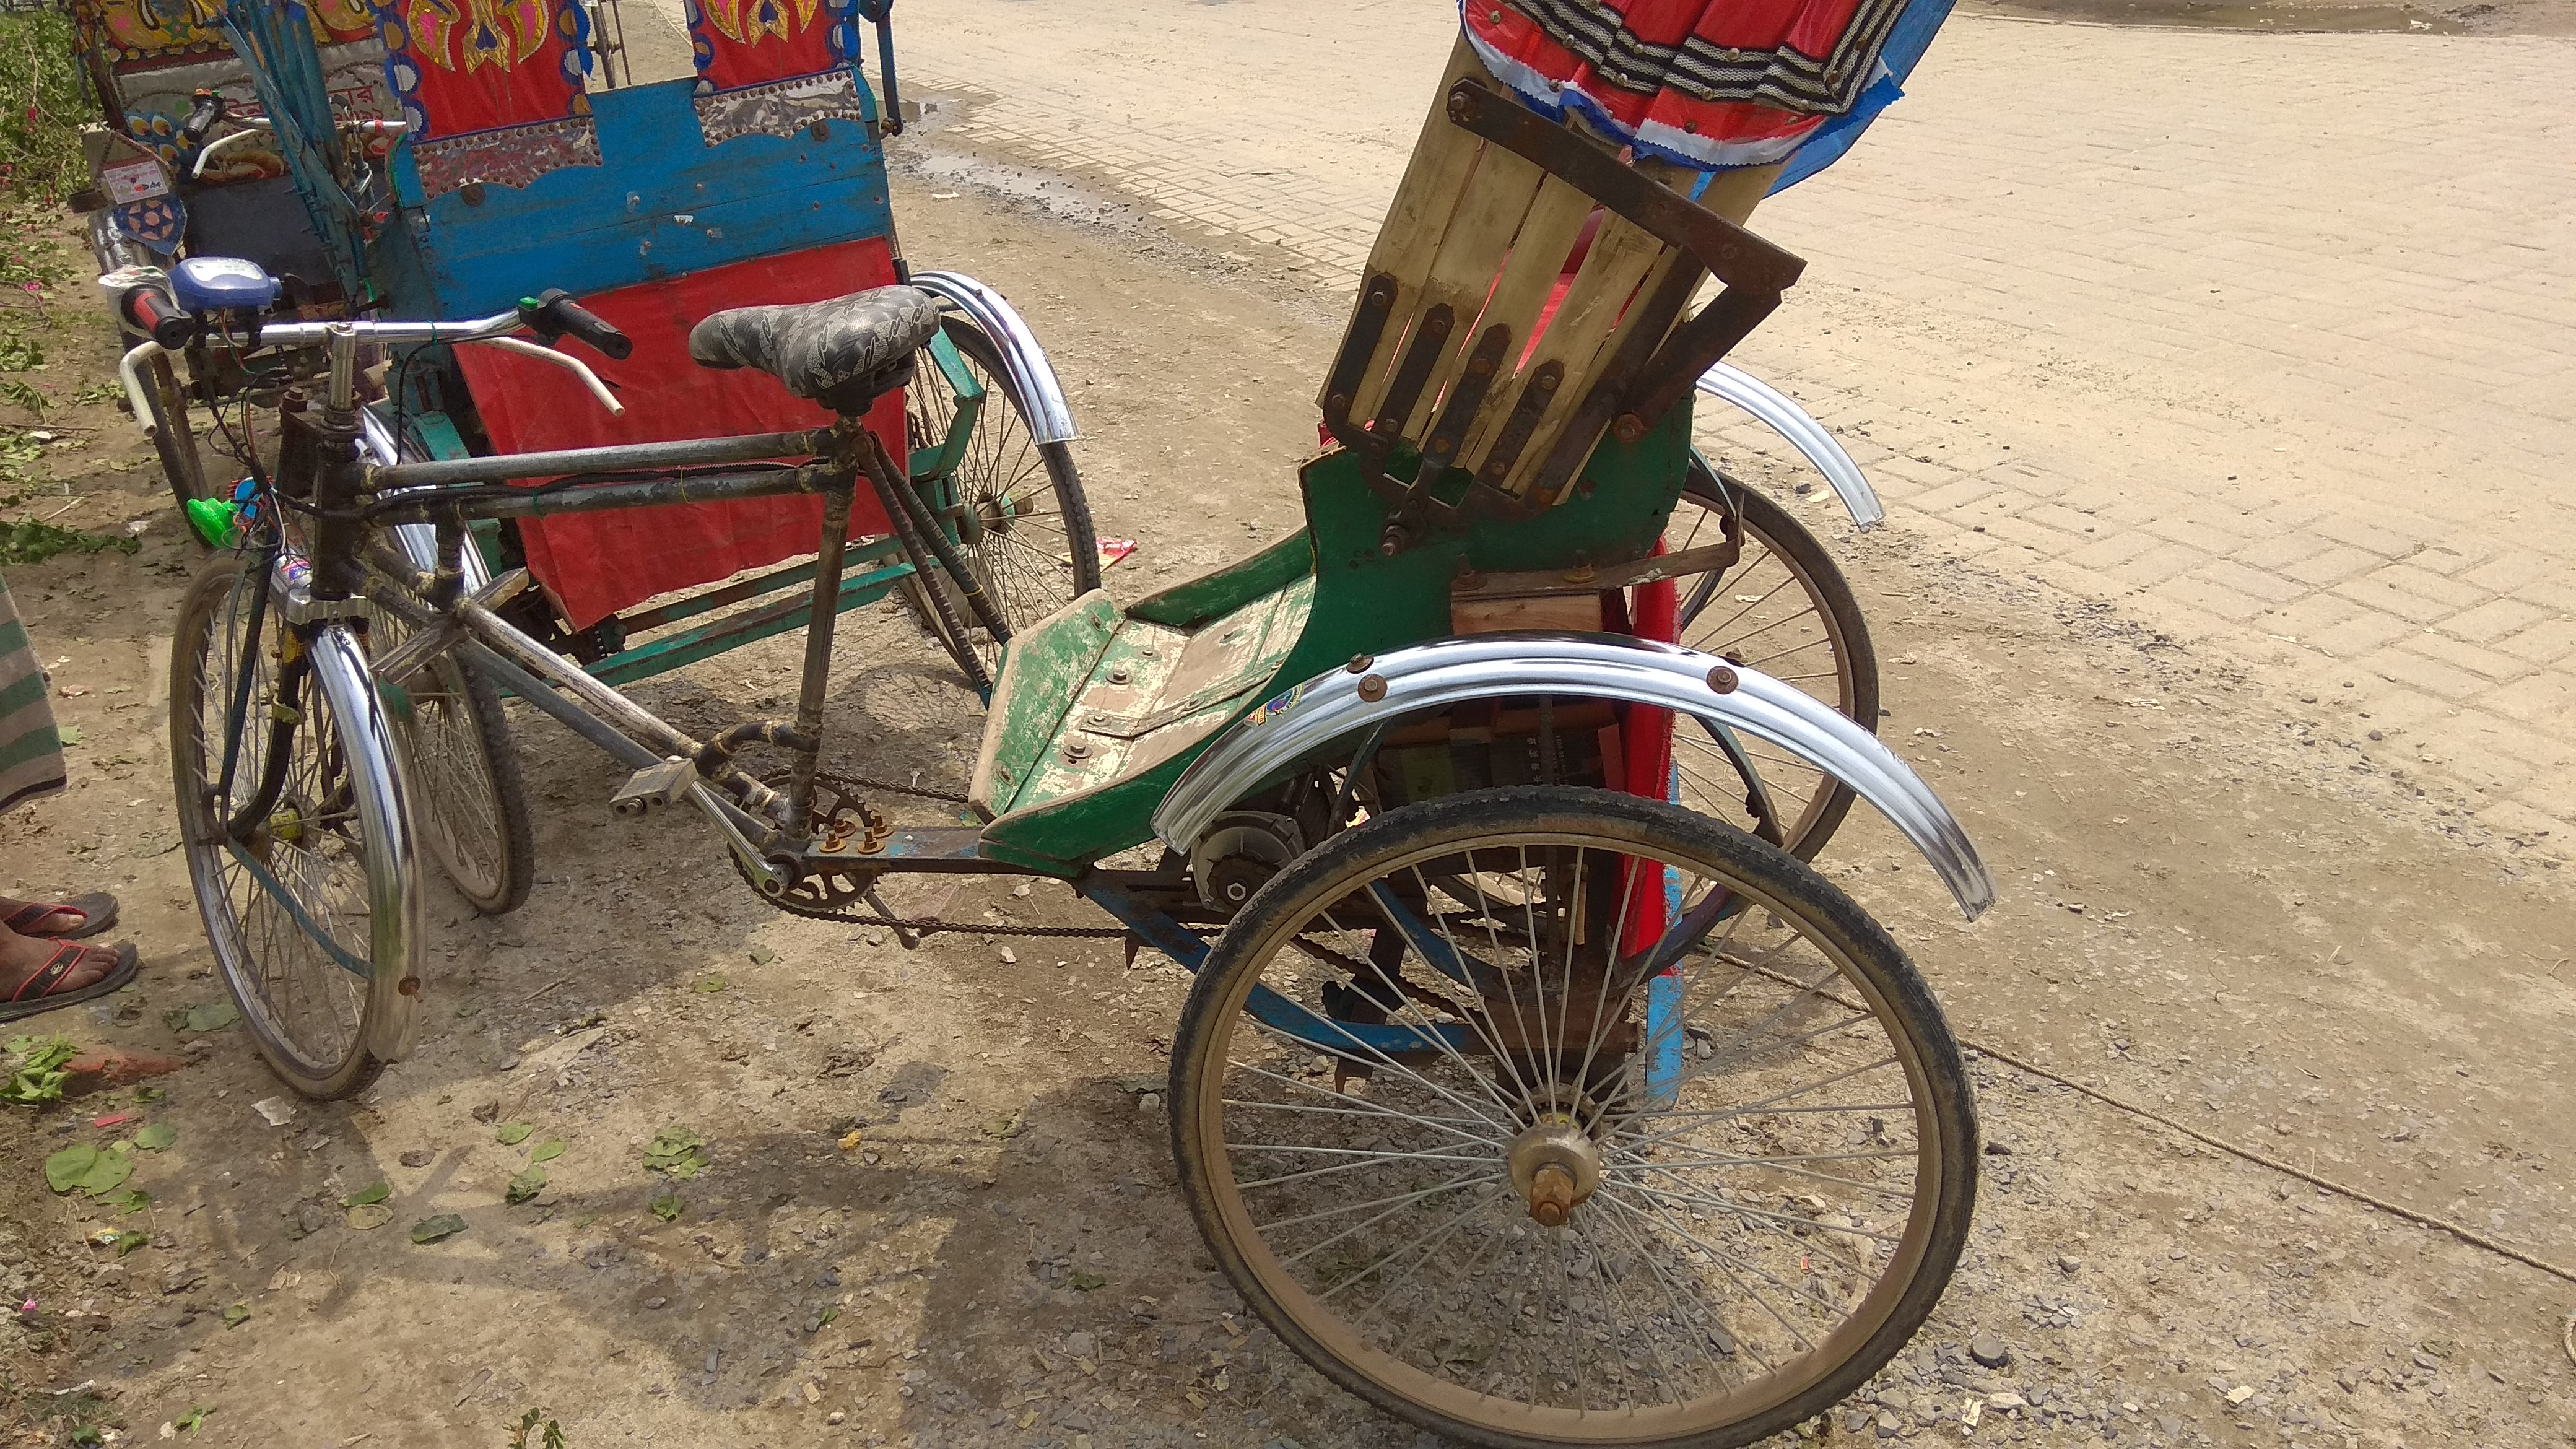Rickshaw: (159, 2, 1999, 1440), (223, 2, 1134, 837), (58, 4, 405, 577)
